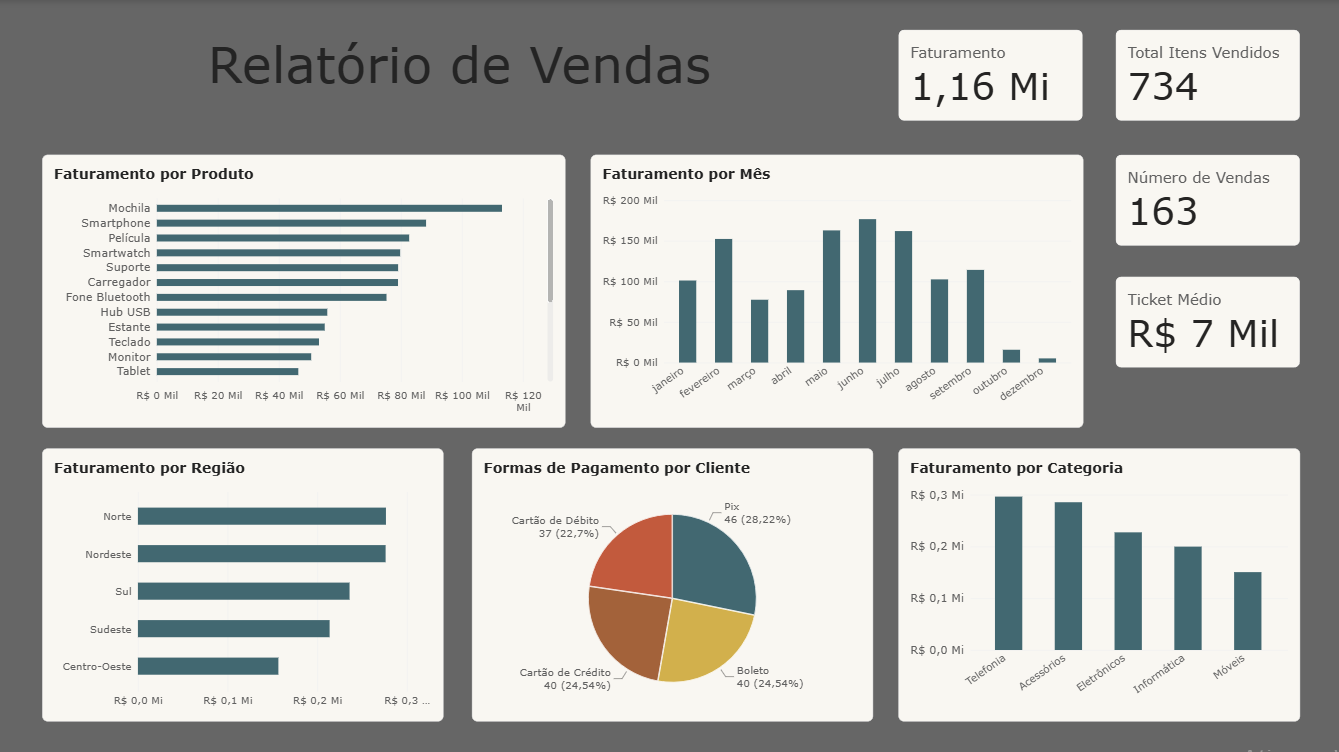

What the dashboard file says about the page in this screenshot:
{"tool":"powerbi","page":{"name":"Página 1","canvas":[1920,1080],"ordinal":0},"visuals":[{"type":"cardVisual","fields":{"Data":["_Medidas.Faturamento_Total"]},"box":[1283.3,43.3,263.3,130],"z":0},{"type":"cardVisual","fields":{"Data":["_Medidas.Ticket Médio"]},"box":[1593.3,394,263.3,130],"z":1000},{"type":"cardVisual","fields":{"Data":["Sum(Vendas.Quantidade)"]},"box":[1593.3,43.3,263.3,130],"z":2000},{"type":"barChart","fields":{"Category":["Vendas.Região"],"Y":["Sum(Vendas.Valor Total da Venda)"]},"box":[60,640,573,390],"z":3000},{"type":"columnChart","fields":{"Category":["Vendas.Categoria"],"Y":["Sum(Vendas.Valor Total da Venda)"]},"box":[1283.3,640,573.3,390],"z":4000},{"type":"barChart","fields":{"Category":["Vendas.Produto"],"Y":["Sum(Vendas.Valor Total da Venda)"]},"box":[60,220,746.7,390],"z":5000},{"type":"pieChart","fields":{"Category":["Vendas.Forma de Pagamento"],"Y":["CountNonNull(Vendas.Cliente)"]},"box":[673.3,640,573,390],"z":6000},{"type":"columnChart","fields":{"Category":["Vendas.Data da Venda.Variation.Hierarquia de datas.Ano","Vendas.Data da Venda.Variation.Hierarquia de datas.Trimestre","Vendas.Data da Venda.Variation.Hierarquia de datas.Mês","Vendas.Data da Venda.Variation.Hierarquia de datas.Dia"],"Y":["Sum(Vendas.Valor Total da Venda)"]},"box":[843.3,220,703.3,390],"z":7000},{"type":"textbox","box":[296.7,46.7,826.7,130],"z":8000},{"type":"cardVisual","fields":{"Data":["_Medidas.Num_Vendas"]},"box":[1593.3,220,263.3,130],"z":9000}]}

Visuals, with their boxes in screenshot pixels (x1, y1, x2, y2), scaled from the page's 1920x1080 canvas onto the 1339x752 screenshot:
cardVisual - _Medidas.Faturamento_Total: detection(895, 30, 1079, 121)
cardVisual - _Medidas.Ticket Médio: detection(1111, 274, 1295, 365)
cardVisual - Sum(Vendas.Quantidade): detection(1111, 30, 1295, 121)
barChart - Vendas.Região x Sum(Vendas.Valor Total da Venda): detection(42, 446, 441, 717)
columnChart - Vendas.Categoria x Sum(Vendas.Valor Total da Venda): detection(895, 446, 1295, 717)
barChart - Vendas.Produto x Sum(Vendas.Valor Total da Venda): detection(42, 153, 563, 425)
pieChart - Vendas.Forma de Pagamento x CountNonNull(Vendas.Cliente): detection(470, 446, 869, 717)
columnChart - Vendas.Data da Venda.Variation.Hierarquia de datas.Ano x Vendas.Data da Venda.Variation.Hierarquia de datas.Trimestre: detection(588, 153, 1079, 425)
textbox: detection(207, 33, 783, 123)
cardVisual - _Medidas.Num_Vendas: detection(1111, 153, 1295, 244)
